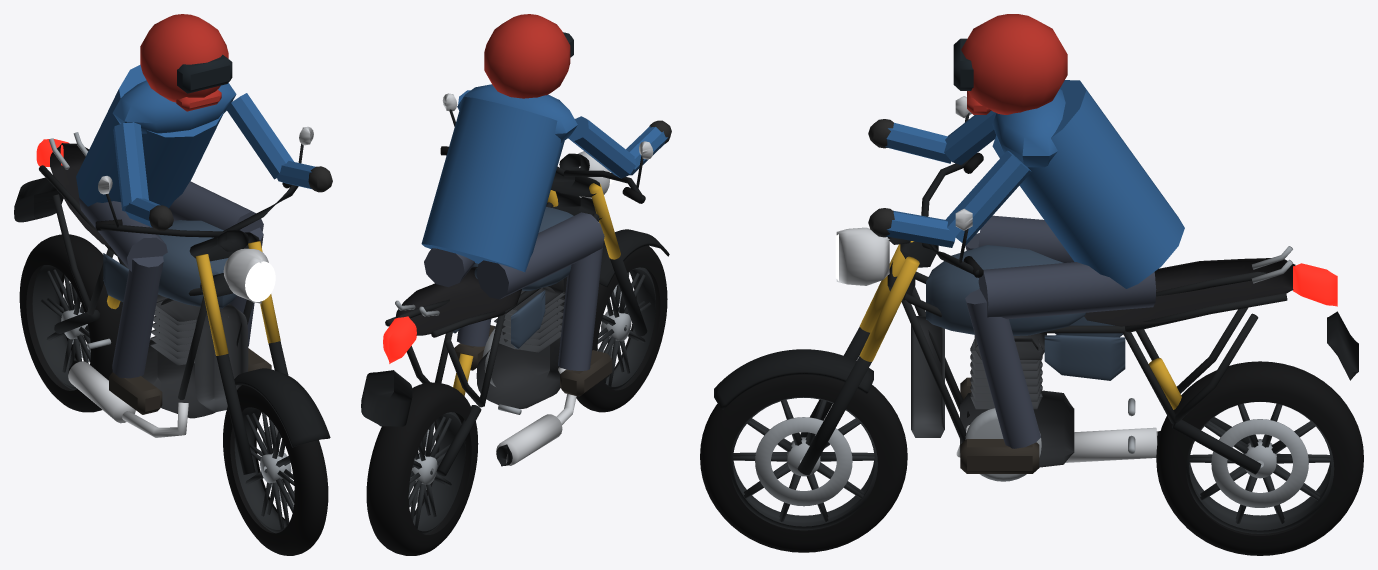
File: speed400.glb
The picture shows the model from 3 angles, left to right: view 1: azimuth 30°, elevation 25°; view 2: azimuth 150°, elevation 25°; view 3: azimuth 270°, elevation 25°; orthographic projection. The views are drawn at different scales.
Visible parts, largest first — view 1: body, rider_torso, fork, wheel_front, rider_legs, wheel_rear, rider_head; view 2: body, rider_torso, wheel_rear, rider_legs, wheel_front, fork, rider_head; view 3: body, rider_torso, wheel_rear, wheel_front, rider_legs, fork, rider_head.
Boxes of the visible parts, box(x1,y1,x2,y2) form: body: box(14, 132, 253, 437); rider_torso: box(76, 64, 332, 230); fork: box(95, 126, 330, 474); wheel_front: box(223, 385, 328, 555); rider_legs: box(78, 181, 271, 414); wheel_rear: box(19, 234, 123, 412); rider_head: box(140, 14, 232, 111); body: box(361, 202, 599, 476); rider_torso: box(421, 84, 671, 272); wheel_rear: box(366, 382, 478, 555); rider_legs: box(424, 212, 612, 396); wheel_front: box(576, 245, 667, 412); fork: box(440, 93, 669, 336); rider_head: box(484, 14, 573, 98); body: box(901, 245, 1358, 481); rider_torso: box(868, 80, 1184, 288); wheel_rear: box(1156, 361, 1363, 555); wheel_front: box(700, 374, 907, 552); rider_legs: box(960, 215, 1156, 473); fork: box(714, 96, 983, 475); rider_head: box(953, 14, 1067, 114).
Size of the model in its own units: 0.87 by 1.79 by 2.02.
